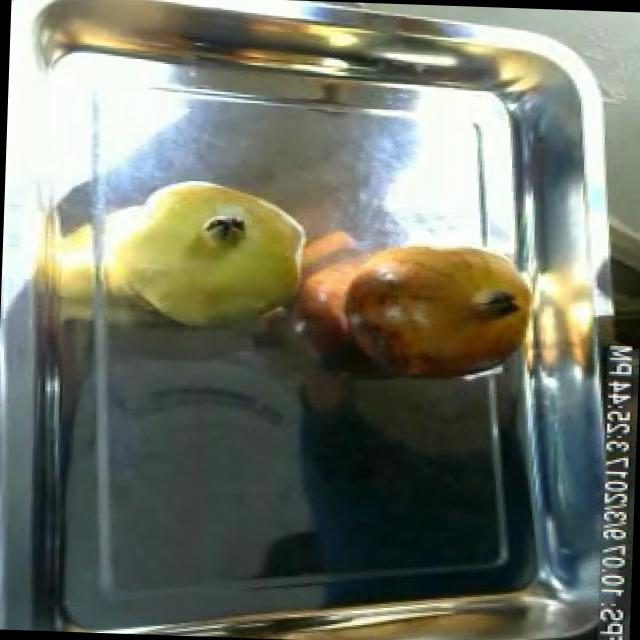fruit: (105, 167, 322, 346), (328, 232, 544, 394)
